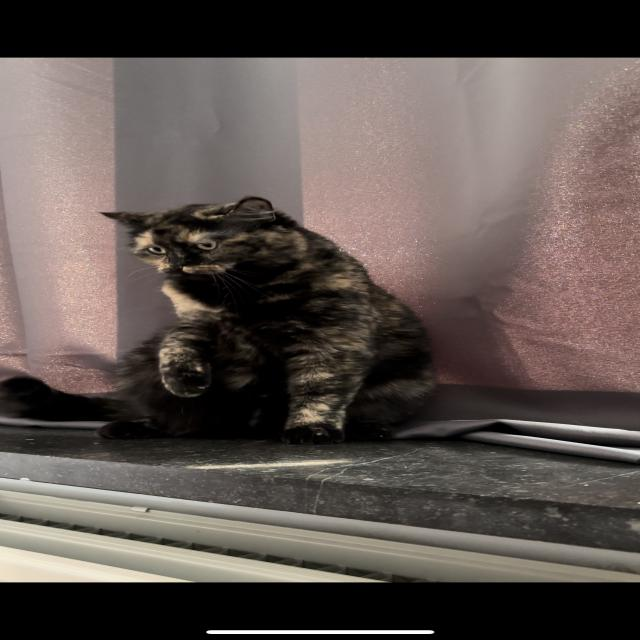authorized: (1, 195, 438, 445)
